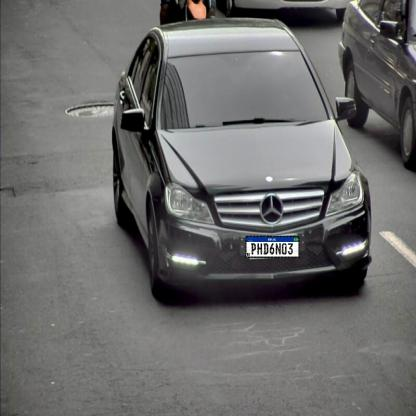PlacaM: (245, 236, 300, 258)
